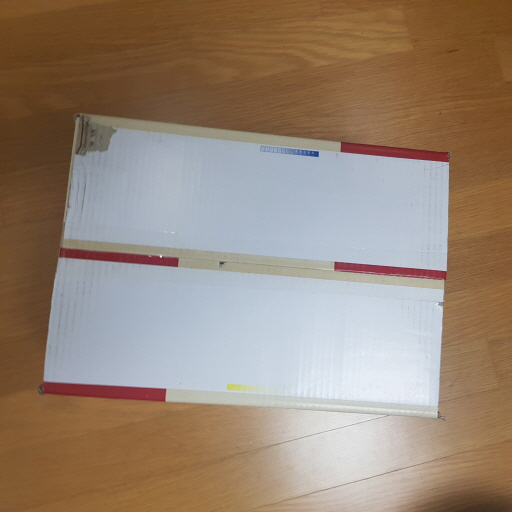Paper_0: (33, 103, 458, 428)
